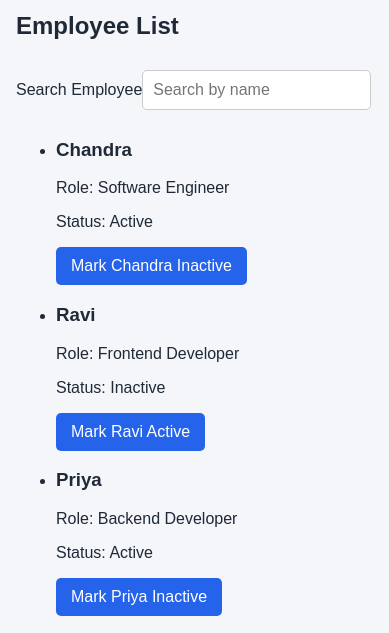
EmployeeList Component › searches employees by name
This screenshot has width=389, height=633.
Type "Chandra" into the field labelled "Search Employee" at (257, 90), box [142, 70, 371, 110]
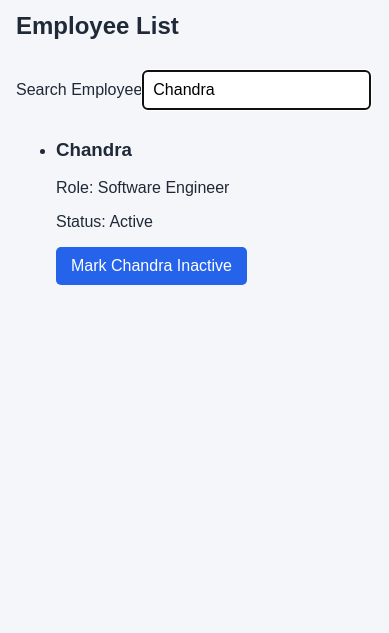
Check: the heading "Chandra" is shown, box [56, 138, 132, 160]
Check: the heading "Ravi" is gone
Check: the heading "Priya" is gone
